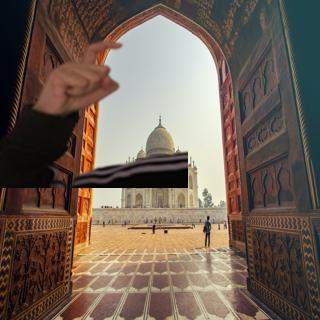WHY: (33, 37, 128, 114)
